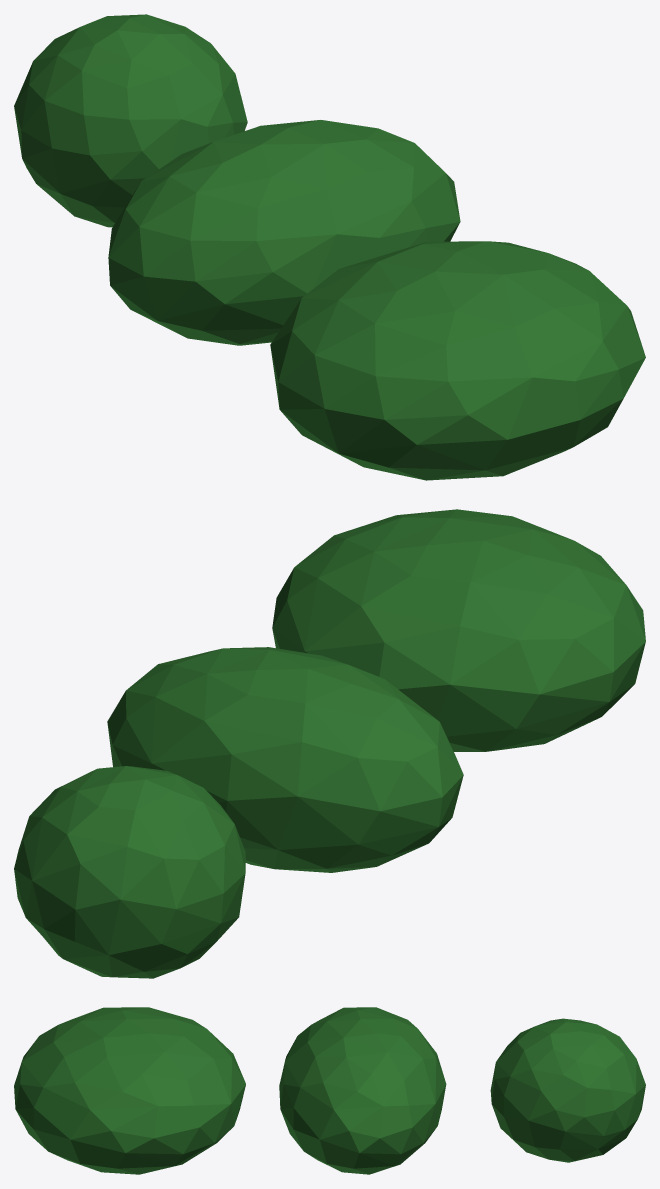
Rendered from Bushes.fbx.
3 renders of one model, top to bottom at view 1: azimuth 30°, elevation 25°; view 2: azimuth 150°, elevation 25°; view 3: azimuth 270°, elevation 25°, orthographic. The views are drawn at different scales.
Parts seen in each view (by area): view 1: Sphere.001, Sphere, Sphere.002; view 2: Sphere.001, Sphere, Sphere.002; view 3: Sphere.001, Sphere, Sphere.002.
Part boxes in pixels (left/top/right/bottom): Sphere.001: left=270, top=241, right=645, bottom=480; Sphere: left=108, top=120, right=460, bottom=345; Sphere.002: left=14, top=14, right=247, bottom=227; Sphere.001: left=272, top=509, right=645, bottom=751; Sphere: left=107, top=647, right=463, bottom=872; Sphere.002: left=14, top=766, right=245, bottom=978; Sphere.001: left=14, top=1007, right=245, bottom=1174; Sphere: left=279, top=1007, right=446, bottom=1174; Sphere.002: left=490, top=1018, right=645, bottom=1162.
Bounding box in the file's own units: 442 × 241 × 1081.
